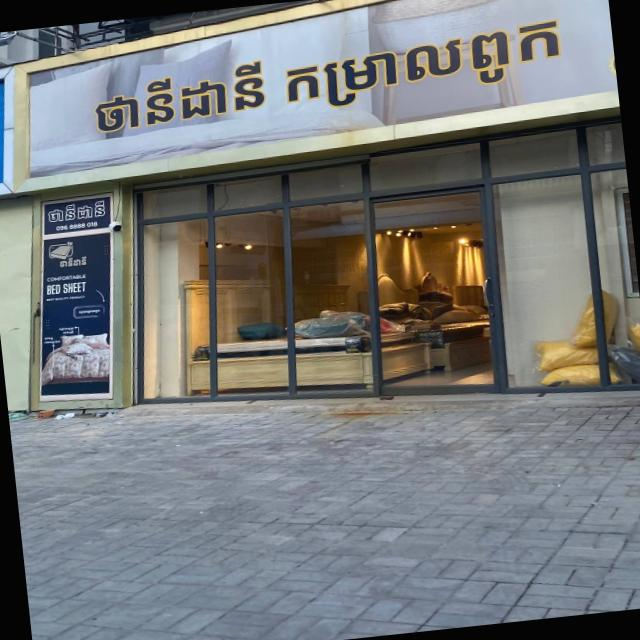1: (91, 6, 582, 149)
Yolov11kh: (44, 197, 108, 226), (55, 253, 91, 271)
